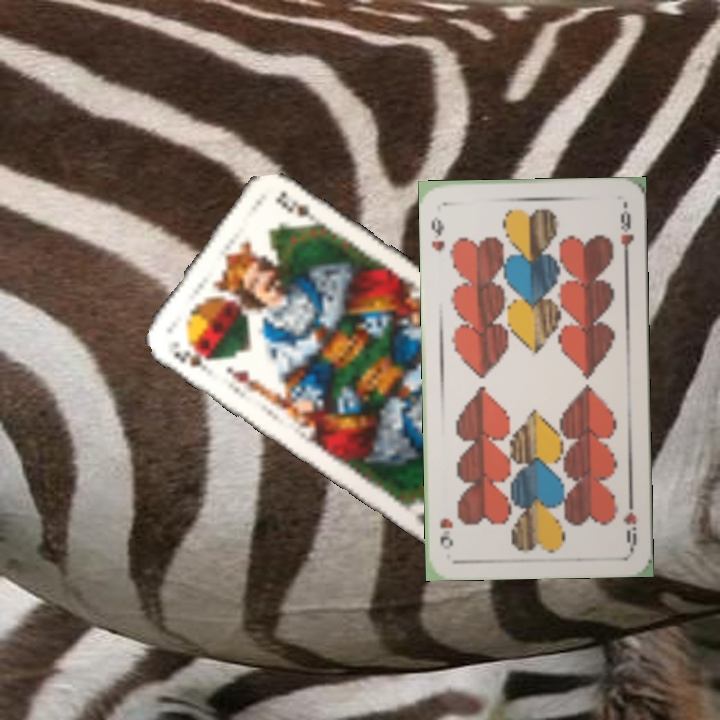H9: (619, 492, 640, 551), (427, 212, 447, 254)
SK: (168, 340, 214, 375)
